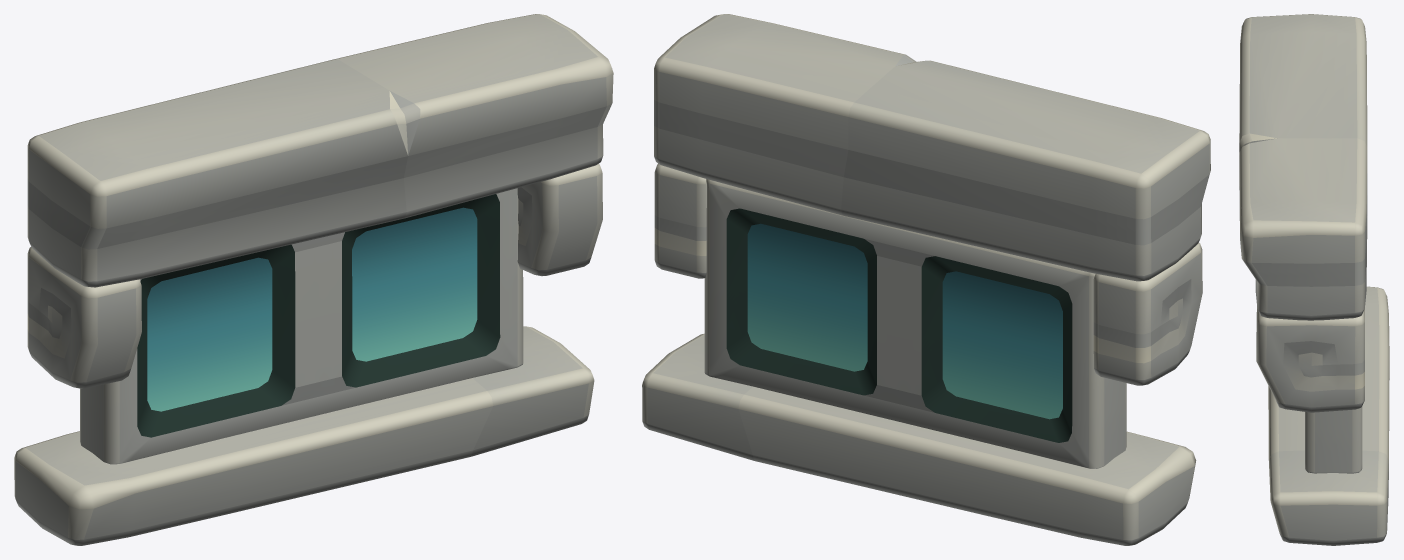
The model's file is window_ornate6_LOD_setup.fbx.
3 views of the same model, side by side, from view 1: azimuth 30°, elevation 25°; view 2: azimuth 150°, elevation 25°; view 3: azimuth 270°, elevation 25° (orthographic). The views are drawn at different scales.
Visible parts, largest first — view 1: window_ornate6_LOD0; view 2: window_ornate6_LOD0; view 3: window_ornate6_LOD0.
Boxes of the visible parts, left/top/right/bottom form: window_ornate6_LOD0: left=14, top=14, right=613, bottom=545; window_ornate6_LOD0: left=642, top=14, right=1210, bottom=545; window_ornate6_LOD0: left=1239, top=14, right=1389, bottom=545.
Size of what is drawn, in the model's own units: 257 by 183 by 75.61.
